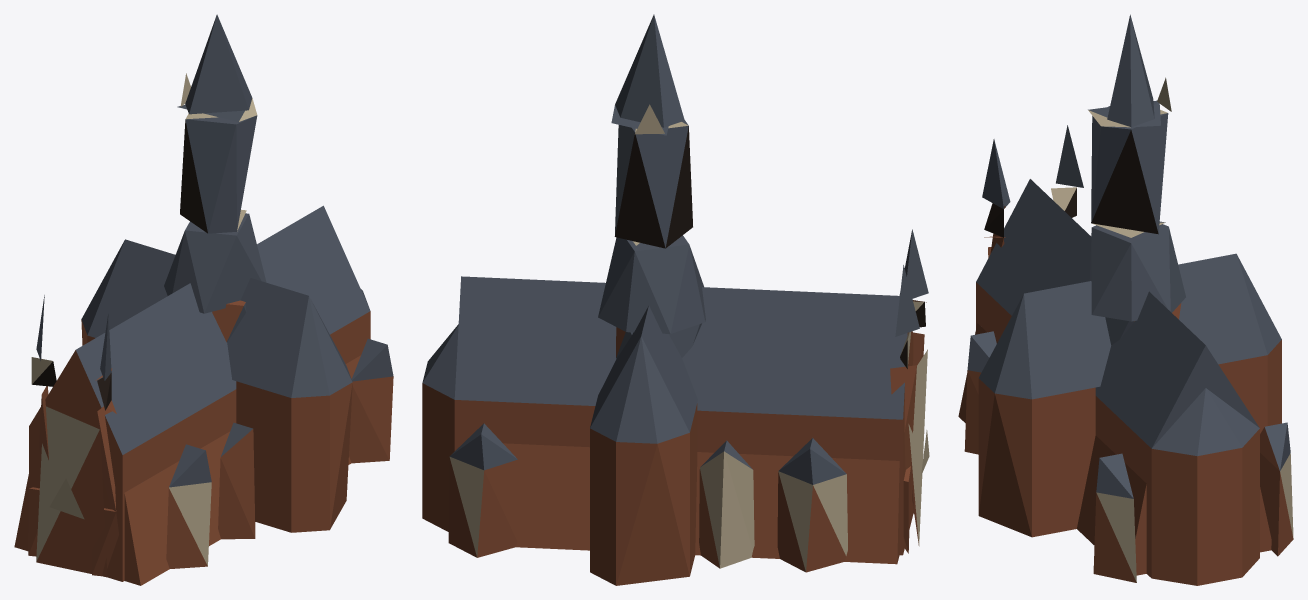
Rendered from vondelkerk.lod2.glb.
3 views of the same model, side by side, from view 1: azimuth 30°, elevation 25°; view 2: azimuth 150°, elevation 25°; view 3: azimuth 270°, elevation 25° (orthographic). The views are drawn at different scales.
Visible parts, largest first — view 1: lod2; view 2: lod2; view 3: lod2.
Boxes of the visible parts, box(x1,y1,x2,y2) form: lod2: box(14, 14, 393, 585); lod2: box(422, 14, 929, 585); lod2: box(958, 14, 1293, 585).
Size of the model in its own units: 41.63 by 47.6 by 29.95.
